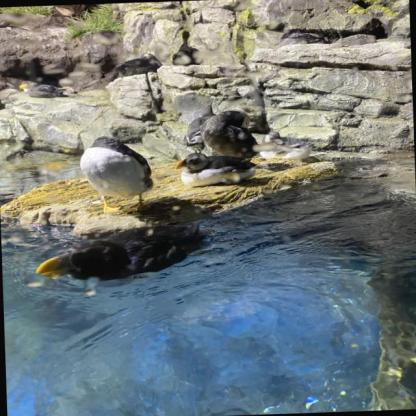puffin: (34, 222, 212, 284), (79, 132, 154, 215), (202, 106, 283, 156), (174, 151, 262, 188), (183, 110, 227, 158), (112, 51, 164, 78), (20, 77, 68, 98), (0, 79, 5, 113)
